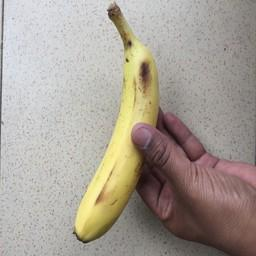Banana Ripe: (66, 0, 175, 256)
